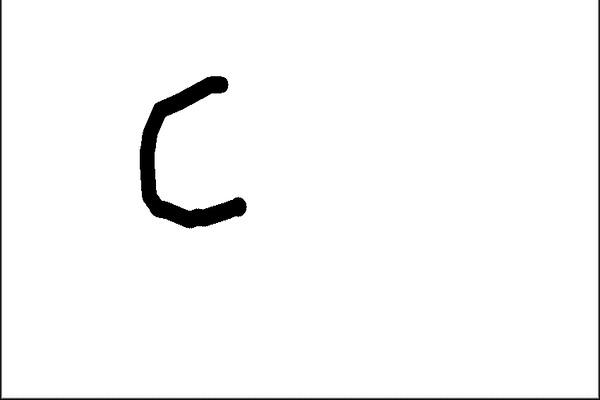C: (134, 70, 249, 231)
